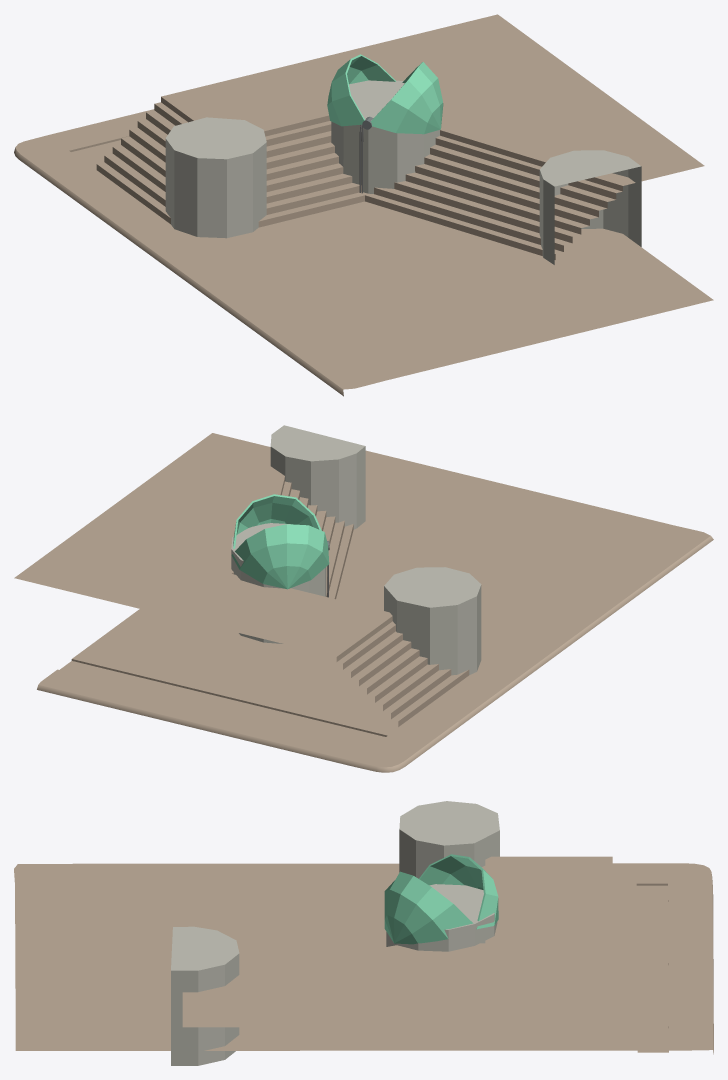
File: Stairs.fbx
3 views of the same model, one above another, from view 1: azimuth 30°, elevation 25°; view 2: azimuth 150°, elevation 25°; view 3: azimuth 270°, elevation 25° (orthographic). The views are drawn at different scales.
Parts seen in each view (by area): view 1: Cube.004, Cube.016, Cylinder.001, Cylinder, Cylinder.002, Sphere.001, Sphere; view 2: Cube.004, Cube.016, Cylinder.001, Cylinder.002, Sphere, Sphere.001, Cylinder; view 3: Cube.004, Cube.016, Cylinder.002, Cylinder.001, Sphere.001, Cylinder, Sphere.
Boxes of the visible parts, <box> form: Cube.004: <box>14,109,713,396</box>; Cube.016: <box>96,14,704,259</box>; Cylinder.001: <box>165,117,266,238</box>; Cylinder: <box>331,80,439,193</box>; Cylinder.002: <box>539,150,641,264</box>; Sphere.001: <box>370,62,443,134</box>; Sphere: <box>327,54,395,126</box>; Cube.004: <box>37,450,713,772</box>; Cube.016: <box>14,433,469,726</box>; Cylinder.001: <box>384,567,481,675</box>; Cylinder.002: <box>270,425,365,529</box>; Sphere: <box>231,524,329,589</box>; Sphere.001: <box>233,494,321,548</box>; Cylinder: <box>231,523,326,643</box>; Cube.004: <box>14,863,713,1054</box>; Cube.016: <box>182,856,612,1027</box>; Cylinder.002: <box>171,926,239,1065</box>; Cylinder.001: <box>399,801,499,878</box>; Sphere.001: <box>384,871,473,944</box>; Cylinder: <box>386,884,497,951</box>; Sphere: <box>419,854,498,929</box>.
Bounding box in the file's own units: 1320 × 375 × 1739.
